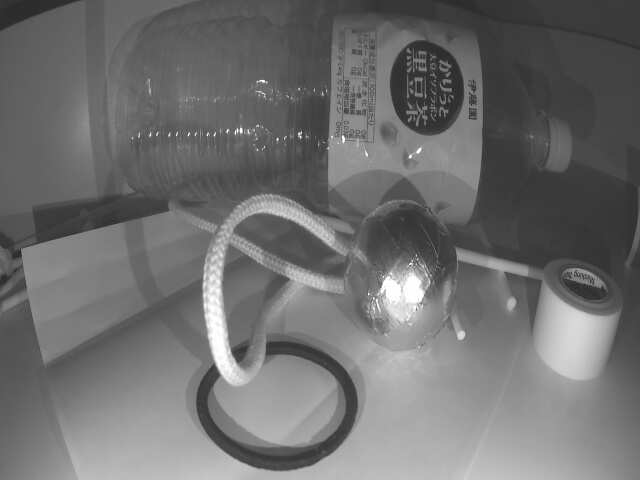Live: (342, 202, 461, 350)
